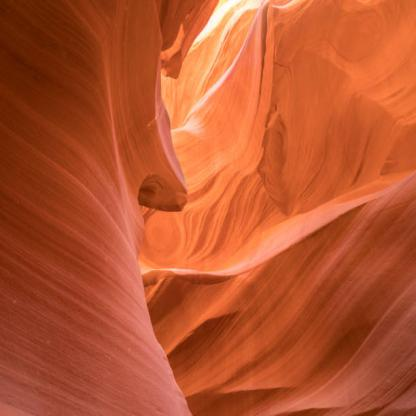Sedimentary_Sandstone: (0, 1, 212, 206), (0, 227, 138, 415)
